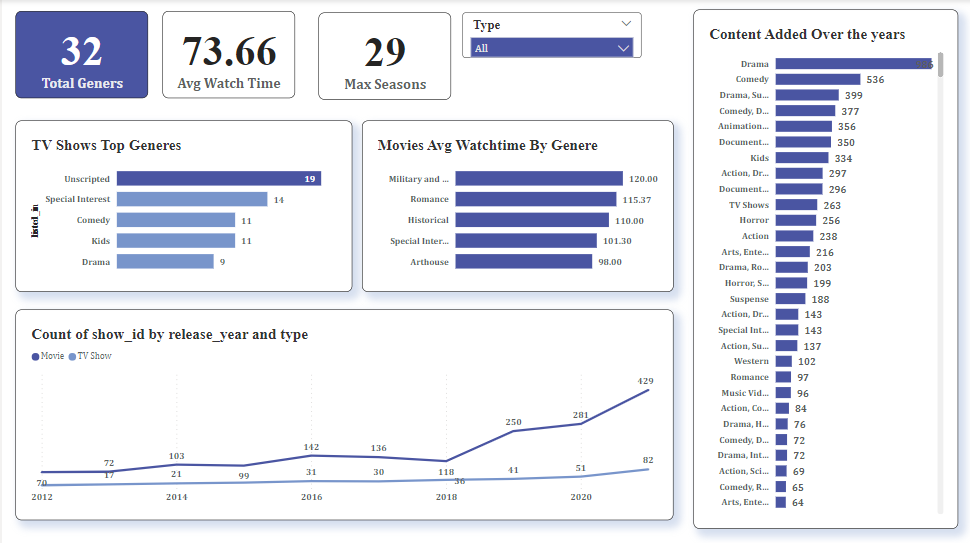

What the dashboard file says about the page in this screenshot:
{"tool":"powerbi","page":{"name":"2","canvas":[1280,720],"ordinal":1},"visuals":[{"type":"clusteredBarChart","title":"TV Shows Top Generes","fields":{"Category":["Genere.listed_in"],"Y":["Max(amazon_prime_titles.Duration_Season)"]},"box":[18.3,160,445,226.7],"z":0},{"type":"barChart","title":"Content Added Over the years","fields":{"Category":["amazon_prime_titles.listed_in"],"Y":["CountNonNull(amazon_prime_titles.show_id)"]},"box":[915,13.3,350,686.7],"z":1000},{"type":"clusteredBarChart","title":"Movies Avg Watchtime By Genere","fields":{"Category":["Genere.listed_in"],"Y":["Avg(amazon_prime_titles.Duration_Min.1)"]},"box":[476.7,160,411.7,226.7],"z":2000},{"type":"card","fields":{"Values":["amazon_prime_titles.Average Watch Time"]},"box":[211.7,16.7,175,115],"z":3000},{"type":"card","fields":{"Values":["Max(amazon_prime_titles.Duration_Season)"]},"box":[418.3,18.3,175,115],"z":4000},{"type":"card","title":"Total Shows","fields":{"Values":["Count(Genere.listed_in)"]},"box":[18.3,15,175,115],"z":5000},{"type":"lineChart","fields":{"Category":["amazon_prime_titles.release_year","Genere.listed_in"],"Series":["amazon_prime_titles.type"],"Y":["CountNonNull(amazon_prime_titles.show_id)"]},"box":[18.3,410,870,278.3],"z":6000},{"type":"slicer","fields":{"Values":["amazon_prime_titles.type"]},"box":[608.3,18.3,236.7,60],"z":7000}]}

Visuals, with their boxes in screenshot pixels (x1, y1, x2, y2), scaled from the page's 1280x720 canvas onto the 970x543 screenshot:
"TV Shows Top Generes" clusteredBarChart: [14, 121, 351, 292]
"Content Added Over the years" barChart: [693, 10, 959, 528]
"Movies Avg Watchtime By Genere" clusteredBarChart: [361, 121, 673, 292]
card - amazon_prime_titles.Average Watch Time: [160, 13, 293, 99]
card - Max(amazon_prime_titles.Duration_Season): [317, 14, 450, 101]
"Total Shows" card: [14, 11, 146, 98]
lineChart - amazon_prime_titles.release_year x Genere.listed_in: [14, 309, 673, 519]
slicer - amazon_prime_titles.type: [461, 14, 640, 59]
